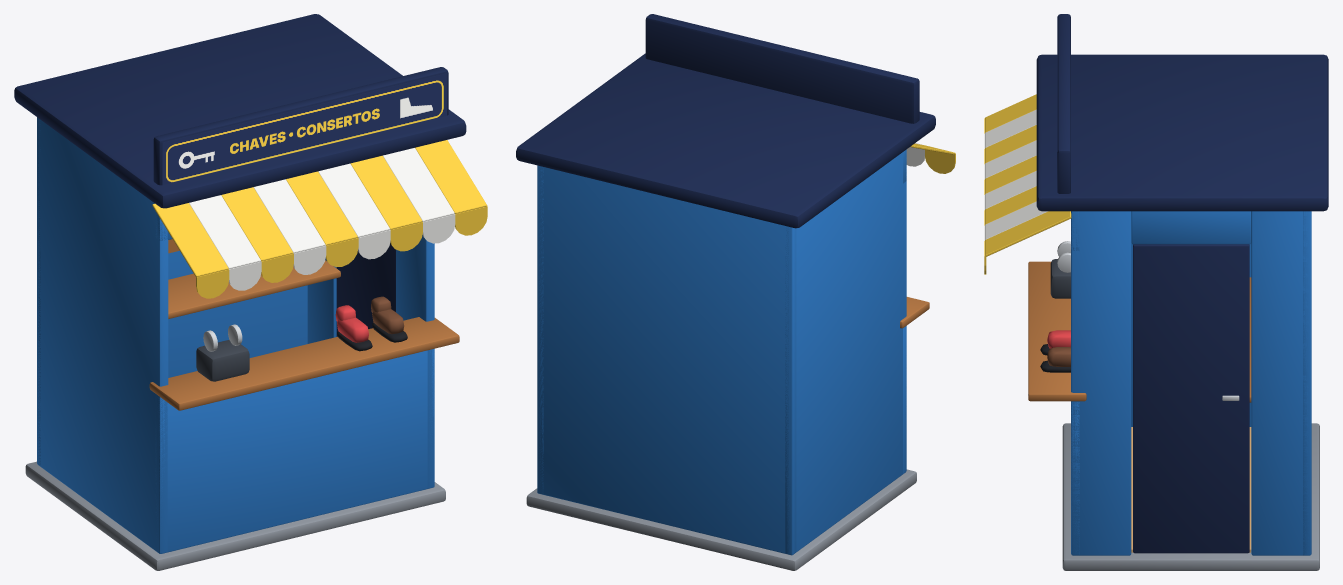
File: quiosque_chaveiro.glb
3 views of the same model, side by side, from view 1: azimuth 30°, elevation 25°; view 2: azimuth 150°, elevation 25°; view 3: azimuth 270°, elevation 25° (orthographic). The views are drawn at different scales.
Parts seen in each view (by area): view 1: quiosque_chaveiro, porta; view 2: quiosque_chaveiro; view 3: quiosque_chaveiro, porta.
Part boxes in pixels (x1,y1,x2,y2): quiosque_chaveiro: (14,14,487,570); porta: (336,242,395,336); quiosque_chaveiro: (516,14,955,570); quiosque_chaveiro: (984,14,1328,570); porta: (1133,244,1249,553).
Size of the model in its own units: 2 by 2.71 by 2.01.
4 materials, 3 textured.
